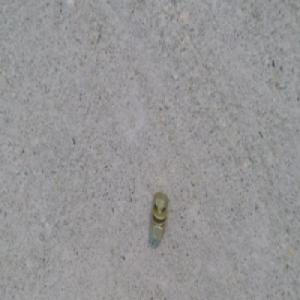BoltNutSet: (151, 190, 169, 238)
